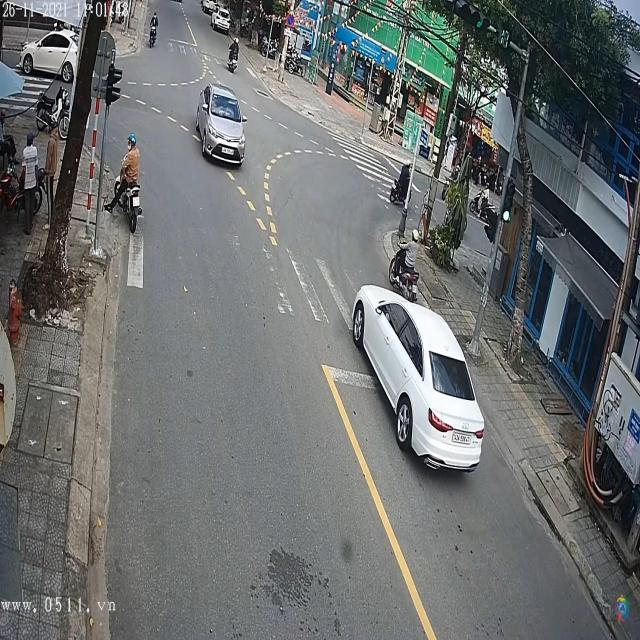car: (352, 286, 486, 474), (196, 84, 249, 170), (14, 31, 80, 78), (113, 168, 143, 238), (201, 1, 219, 16)
motorcycle: (227, 43, 239, 73), (149, 18, 159, 49)
